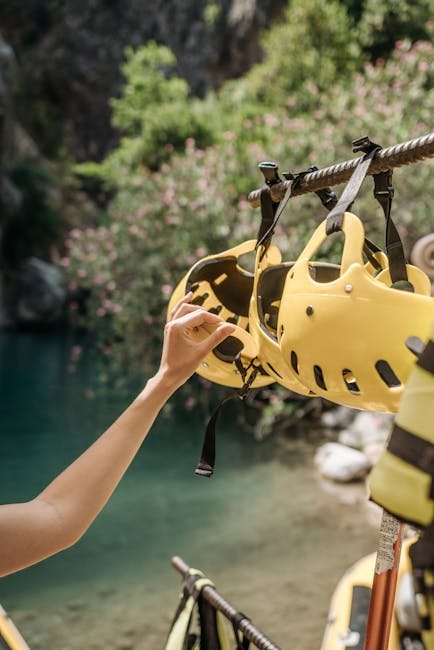safety_helmet: (275, 210, 433, 415), (165, 237, 285, 391), (248, 259, 319, 398)
